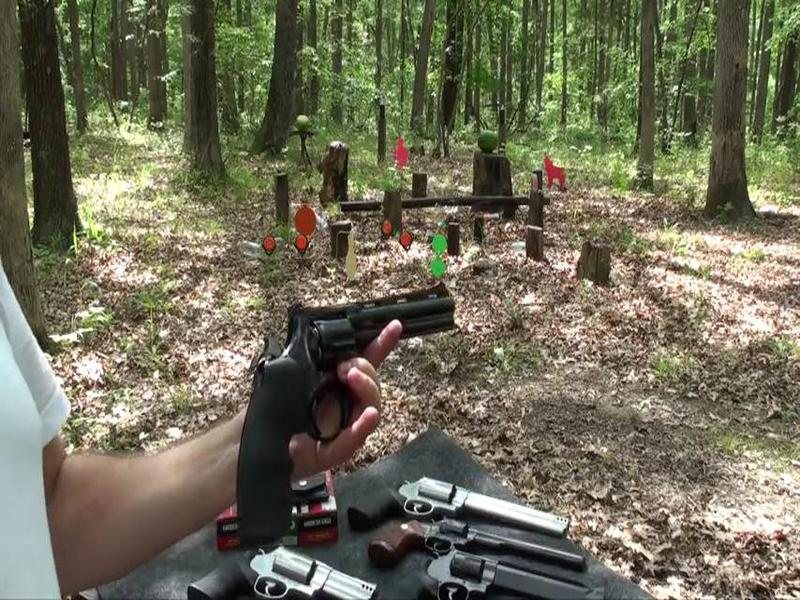Revolver: (235, 280, 454, 551)
